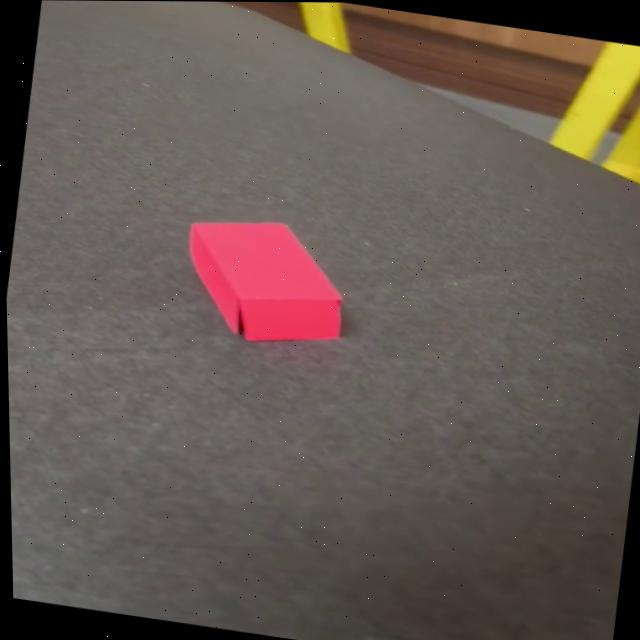red block: (175, 208, 358, 355)
